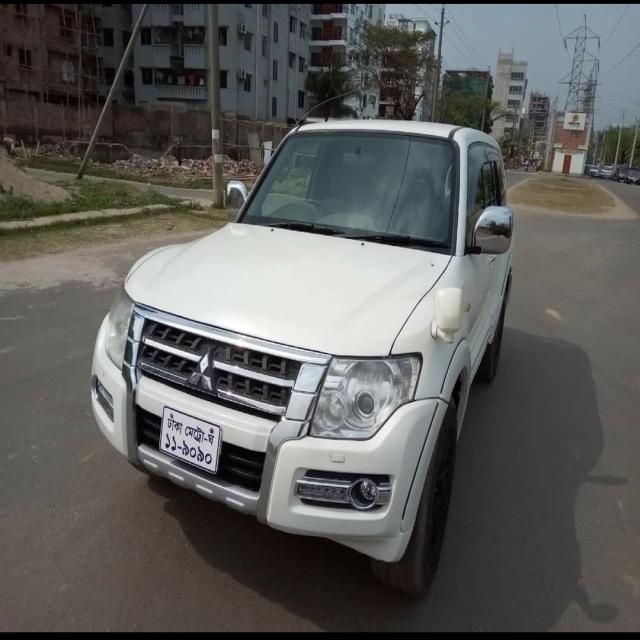white: (94, 126, 528, 595)
